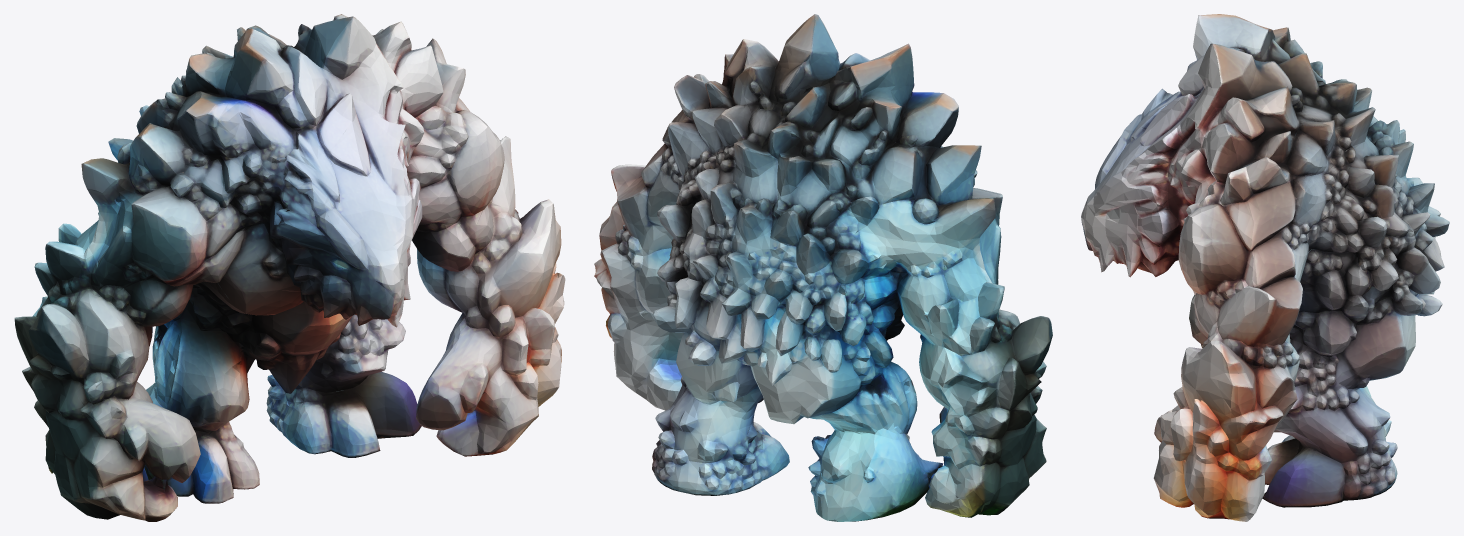
Rendered from typical_creature_rock_monster_demo_trellis.glb.
The picture shows the model from 3 angles, left to right: view 1: azimuth 30°, elevation 25°; view 2: azimuth 150°, elevation 25°; view 3: azimuth 270°, elevation 25°; orthographic projection. The views are drawn at different scales.
Visible parts, largest first — view 1: world; view 2: world; view 3: world.
Part boxes in pixels (box(x1,y1,x2,y2)): world: box(14, 14, 565, 521); world: box(594, 14, 1052, 521); world: box(1081, 14, 1449, 521).
Size of the model in its own units: 0.9963 by 0.8817 by 0.6932.
Materials: 1 (1 with a texture image).
